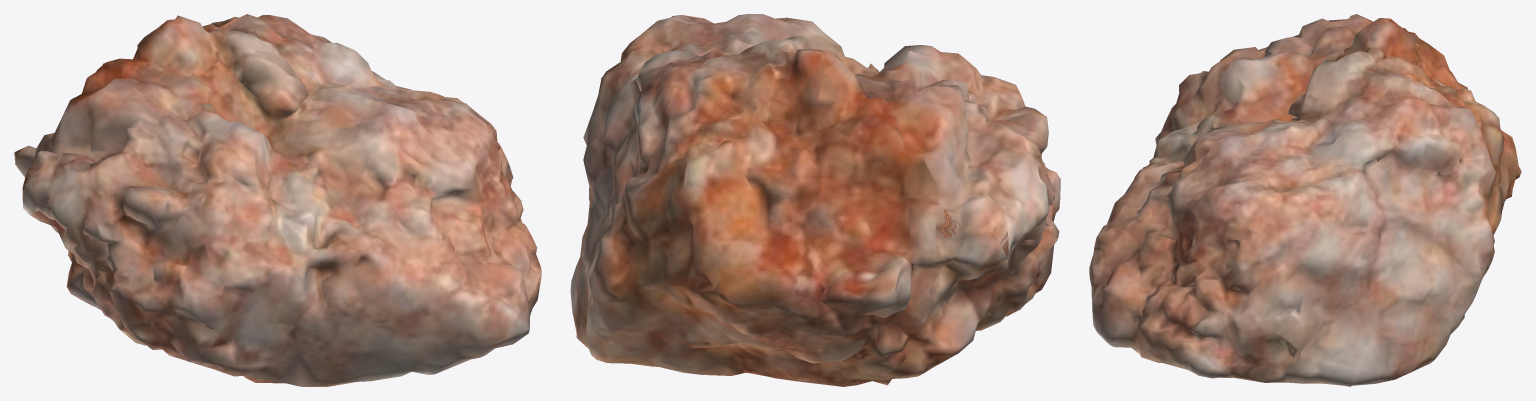
The model's file is namaqualand_rocks_01.glb.
3 views of the same model, side by side, from view 1: azimuth 30°, elevation 25°; view 2: azimuth 150°, elevation 25°; view 3: azimuth 270°, elevation 25° (orthographic). The views are drawn at different scales.
Parts seen in each view (by area): view 1: namaqualand_rocks_02_a; view 2: namaqualand_rocks_02_a; view 3: namaqualand_rocks_02_a.
Boxes of the visible parts, box(x1,y1,x2,y2) form: namaqualand_rocks_02_a: box(14, 14, 541, 386); namaqualand_rocks_02_a: box(570, 14, 1060, 386); namaqualand_rocks_02_a: box(1089, 14, 1521, 386).
Size of the model in its own units: 0.2269 by 0.1525 by 0.217.
1 material, 1 textured.
